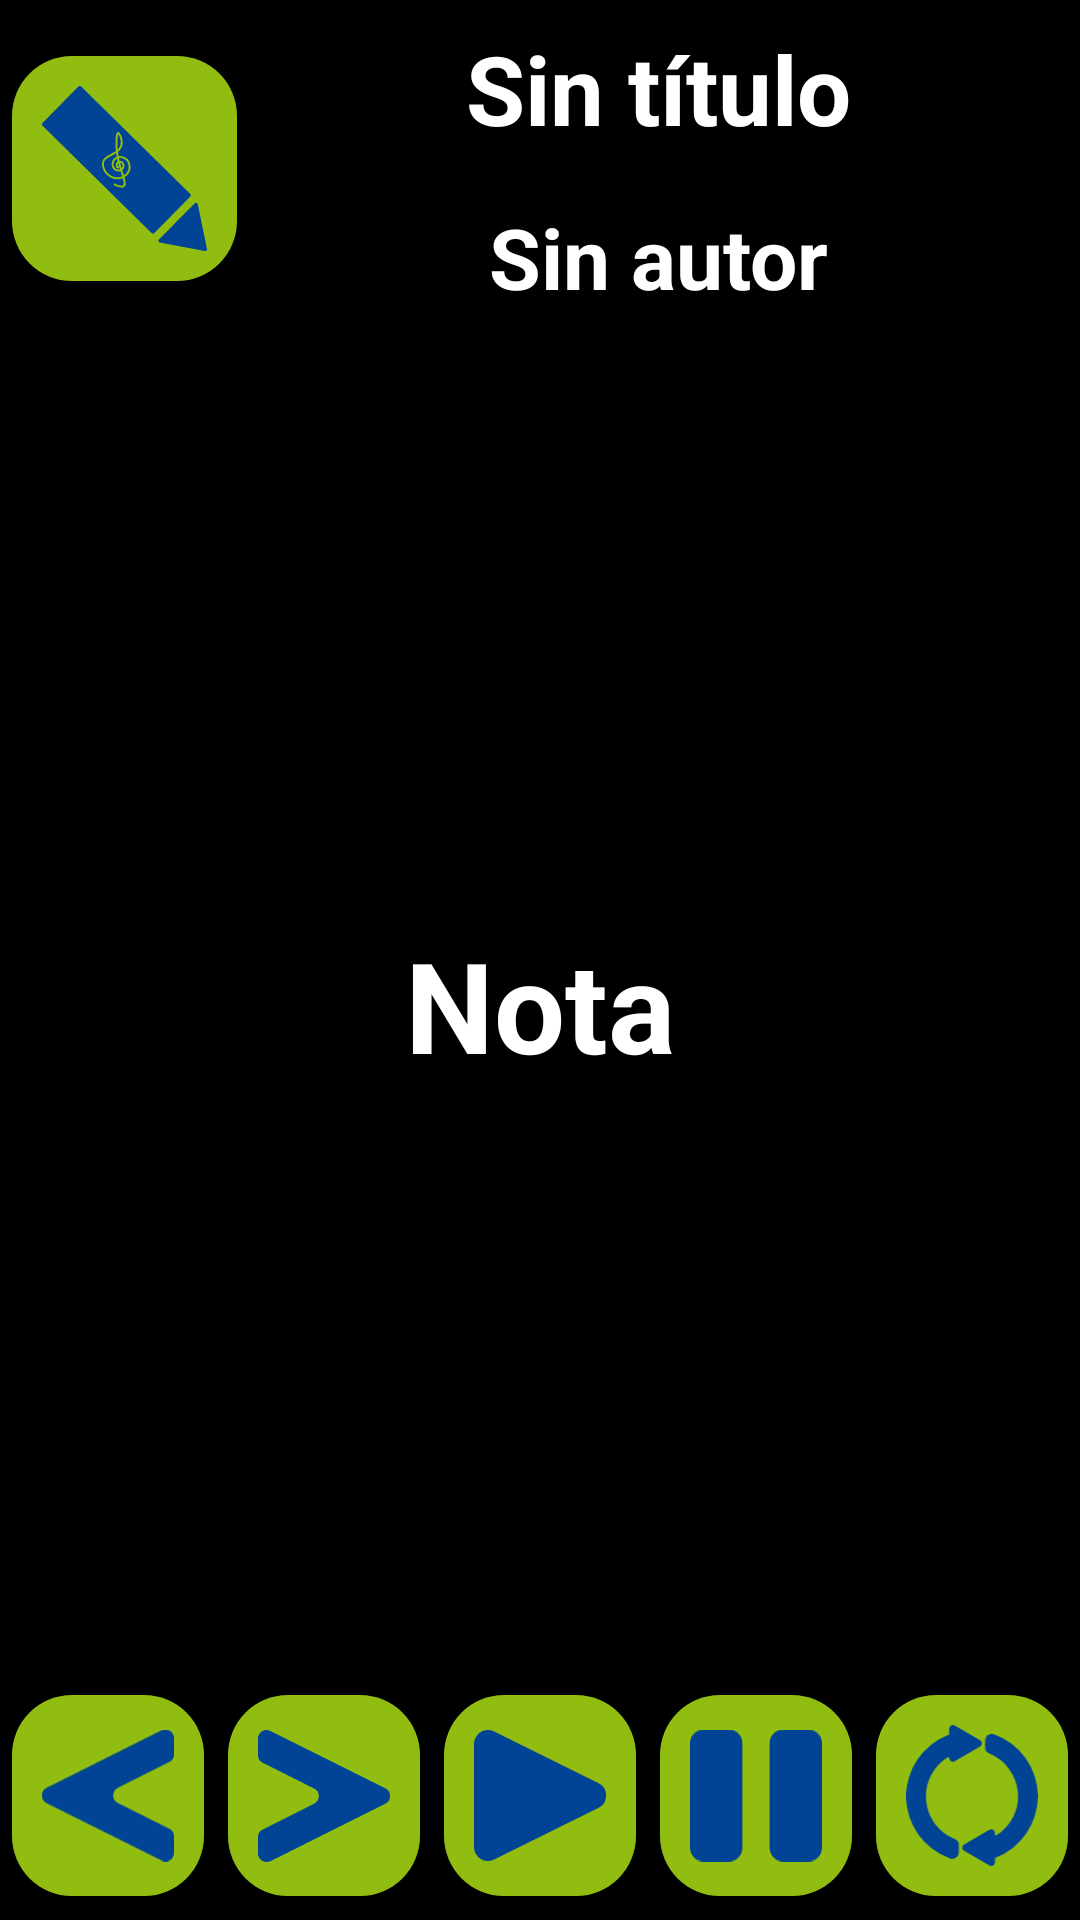

Screen size 1080x1920. Icon name, then its center in pixels as (x,y):
Cambiar a modo edición: (124,168)
Desplazar a la derecha: (324,1795)
Reiniciar reproducción de partitura: (972,1795)
Reproducir partitura: (540,1795)
